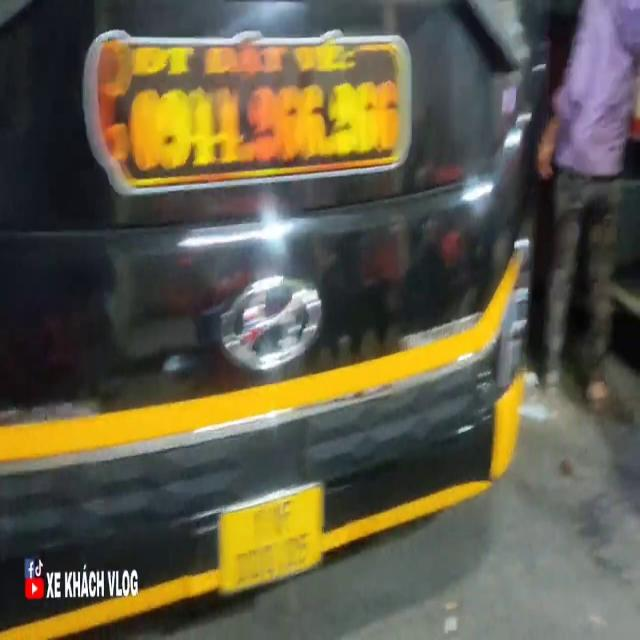bien_vang: (214, 489, 332, 588)
